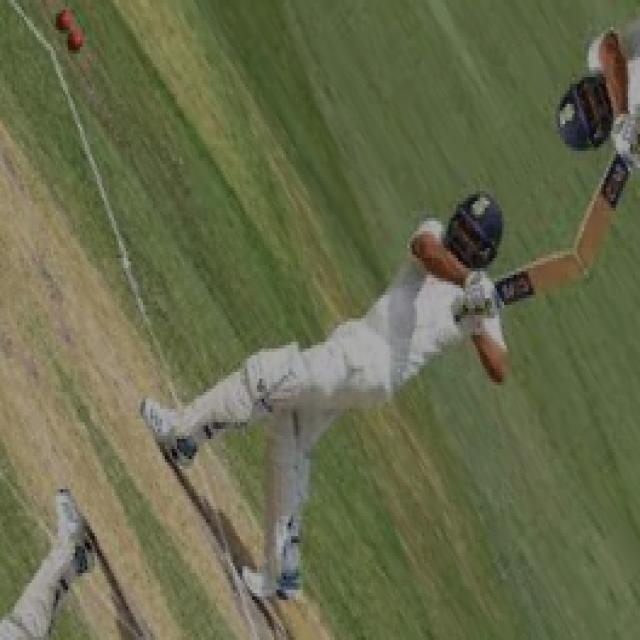toe: (566, 242, 586, 286)
